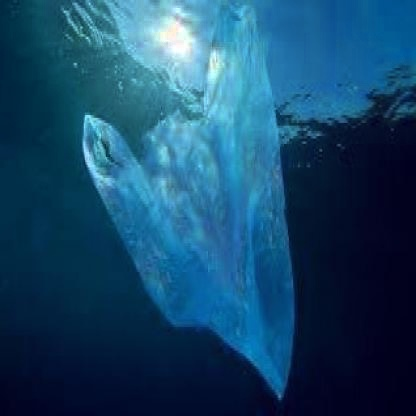pbag: (78, 3, 298, 408)
